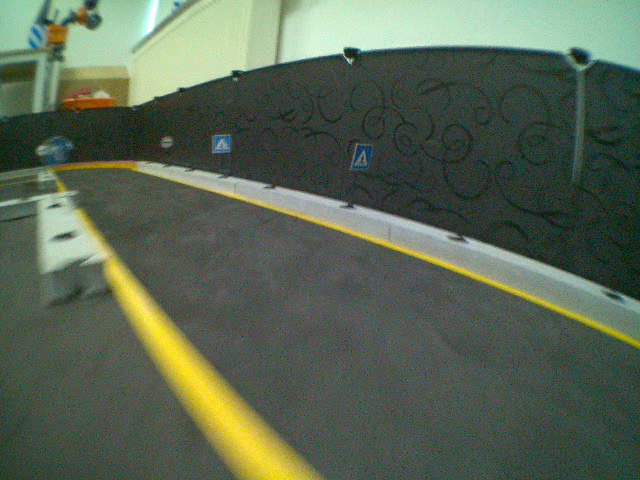Check: (159, 134, 173, 148)
crossing: (349, 142, 375, 172), (212, 134, 231, 154)
